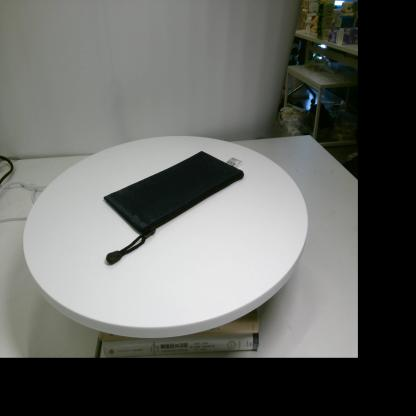Stationery: (104, 150, 244, 264)
